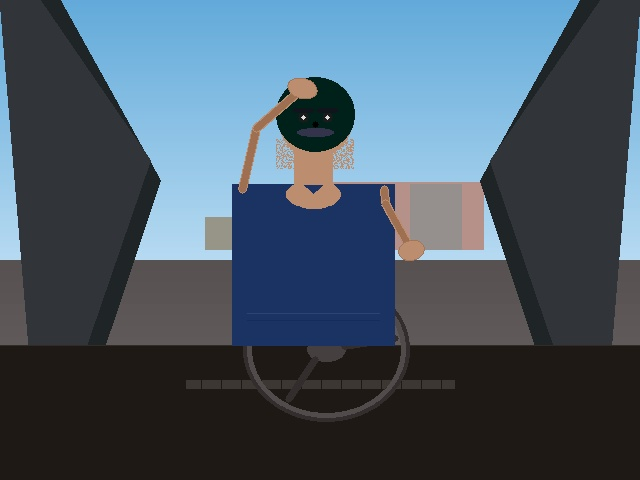hands_off_wheel: (283, 67, 321, 108)
